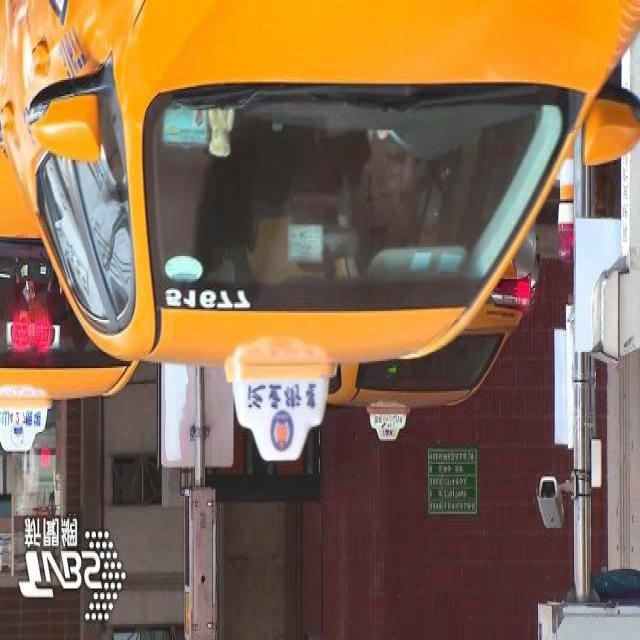taxi: (36, 1, 640, 461), (1, 286, 138, 474), (329, 338, 538, 446)
